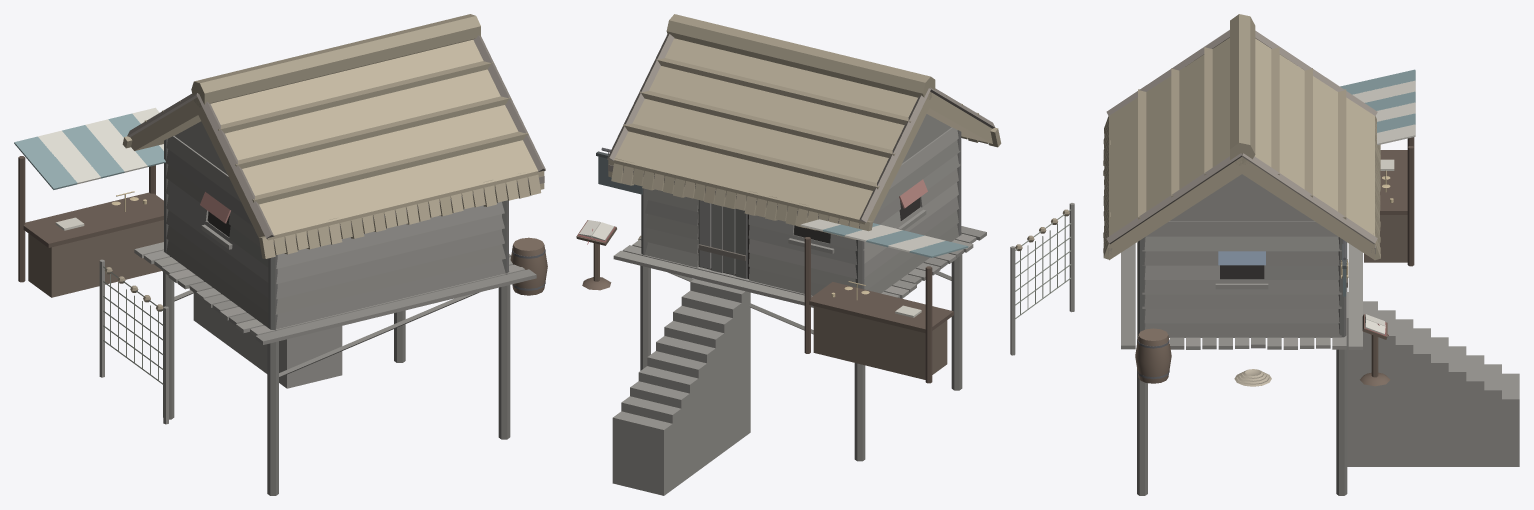
File: harbour_master_1.gltf
3 views of the same model, side by side, from view 1: azimuth 30°, elevation 25°; view 2: azimuth 150°, elevation 25°; view 3: azimuth 270°, elevation 25° (orthographic). The views are drawn at different scales.
Visible parts, largest first — view 1: Body; view 2: Body; view 3: Body.
Part boxes in pixels (left/top/right/bottom): Body: left=14, top=14, right=547, bottom=495; Body: left=576, top=14, right=1074, bottom=495; Body: left=1103, top=14, right=1519, bottom=495.
Size of the model in its own units: 8 by 7.2 by 7.51.
